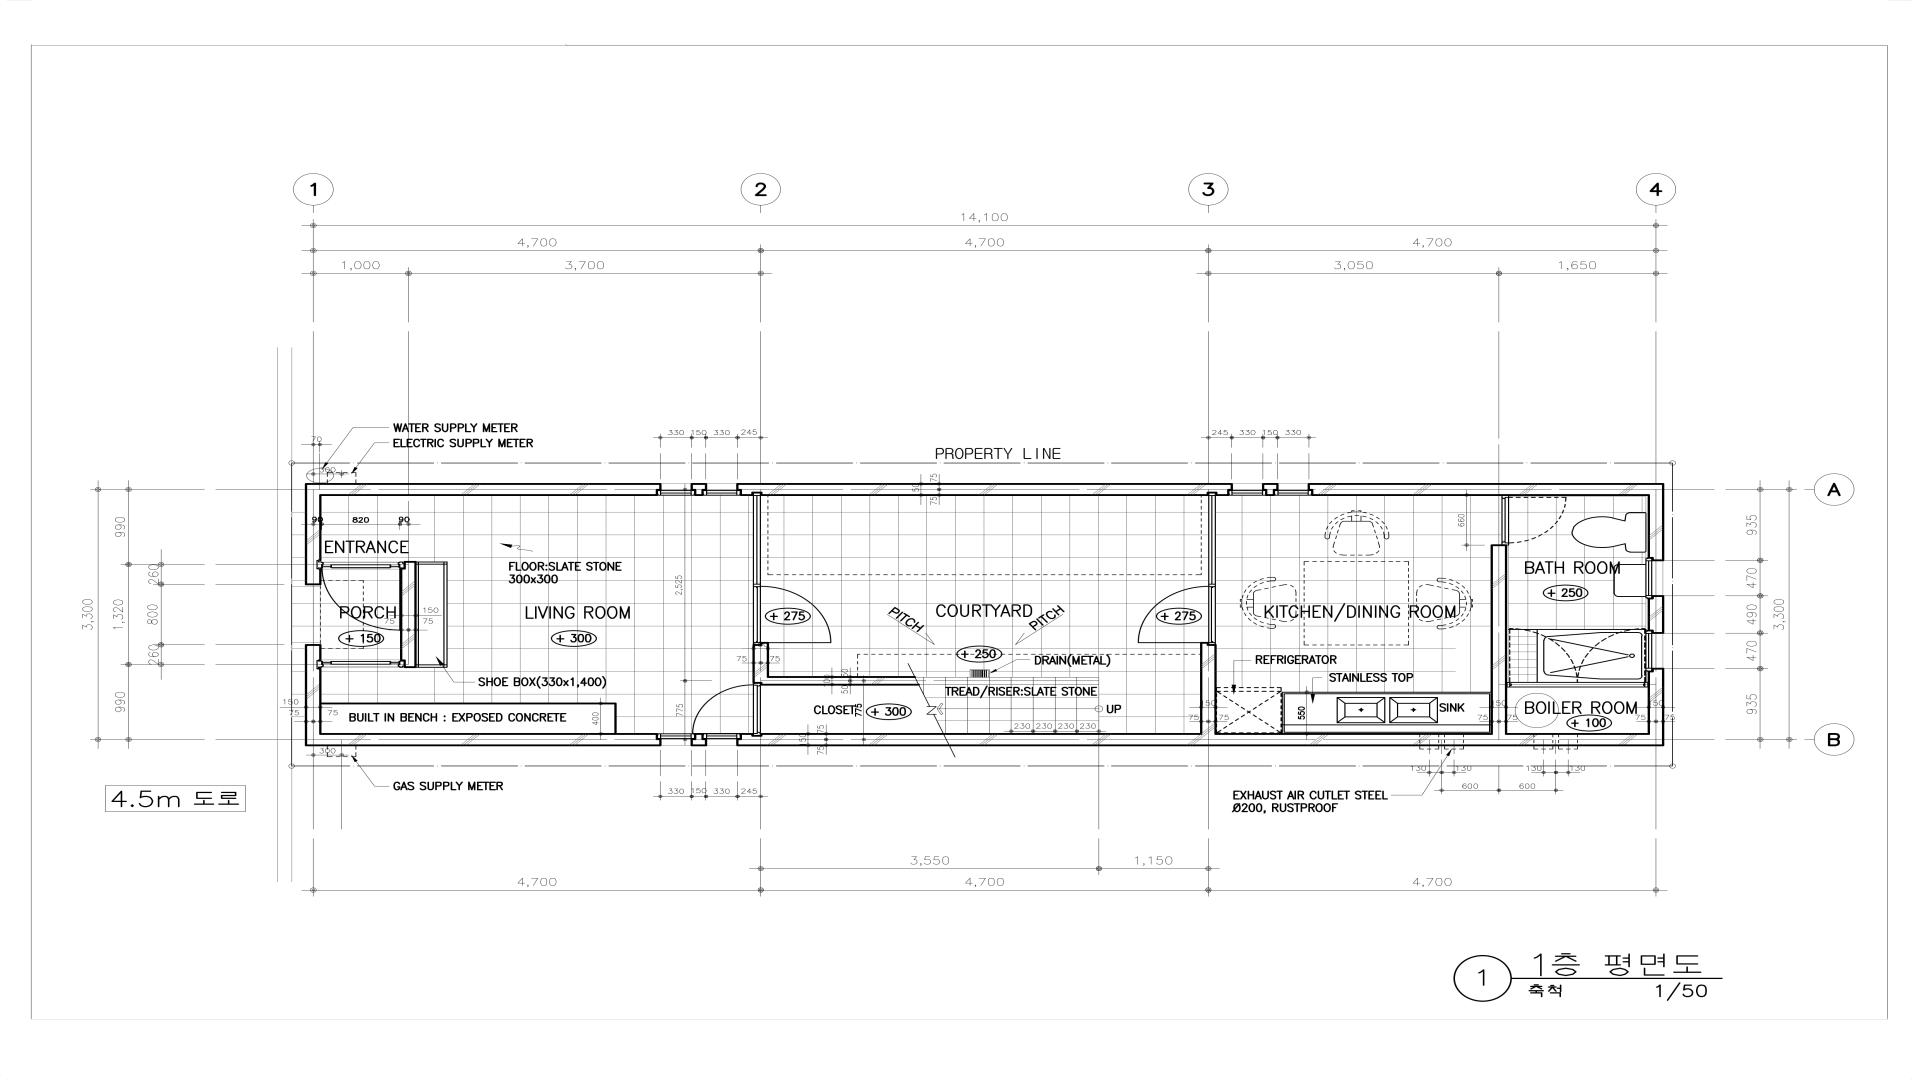door: (318, 560, 404, 630), (753, 584, 832, 645), (1138, 584, 1216, 645), (692, 683, 761, 735), (1502, 496, 1567, 545)
wall: (737, 483, 1233, 496), (737, 733, 1216, 746), (305, 733, 662, 746), (1308, 483, 1664, 496), (322, 483, 662, 496), (1216, 733, 1507, 746), (1490, 545, 1507, 733), (1507, 733, 1648, 746), (400, 560, 417, 667), (305, 483, 322, 585), (1200, 642, 1217, 733), (305, 644, 322, 733), (769, 676, 919, 686), (1647, 669, 1664, 746), (1647, 496, 1664, 562), (1507, 682, 1647, 687), (1647, 595, 1664, 634), (753, 644, 769, 686), (1262, 483, 1279, 491), (691, 483, 707, 491), (691, 738, 707, 746), (694, 491, 704, 496), (694, 733, 704, 738), (1265, 491, 1275, 496)
window: (753, 493, 761, 584), (1208, 493, 1216, 584), (318, 661, 404, 669), (1646, 632, 1663, 671), (1646, 558, 1663, 597), (658, 733, 695, 745), (1229, 484, 1266, 496), (1275, 484, 1312, 496), (658, 484, 694, 496), (704, 484, 740, 496), (704, 733, 740, 745)
